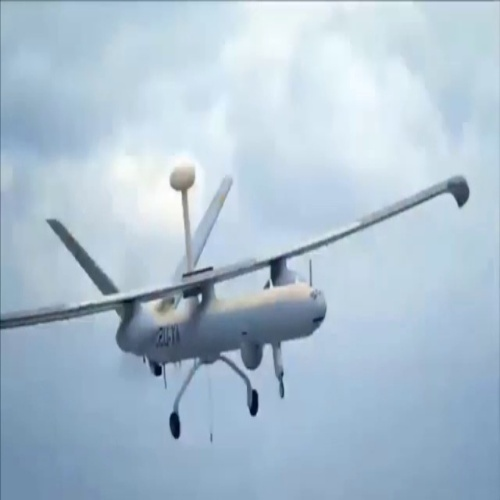uav: (7, 164, 470, 437)
